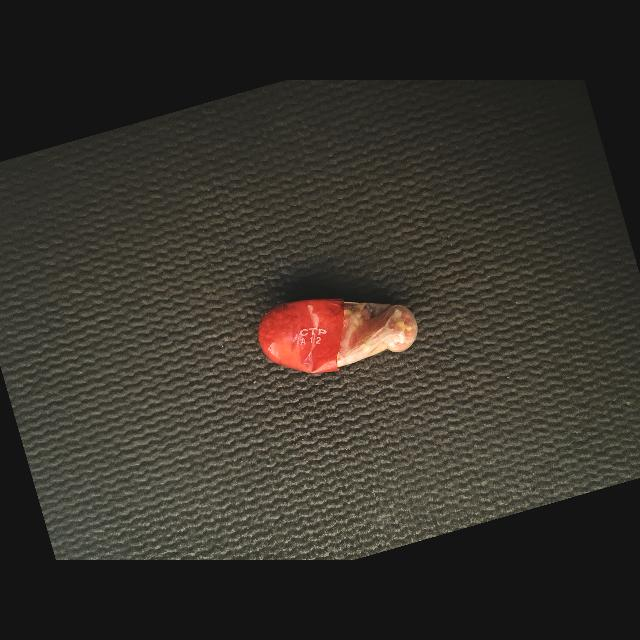Defective Capsule: (259, 298, 418, 373)
